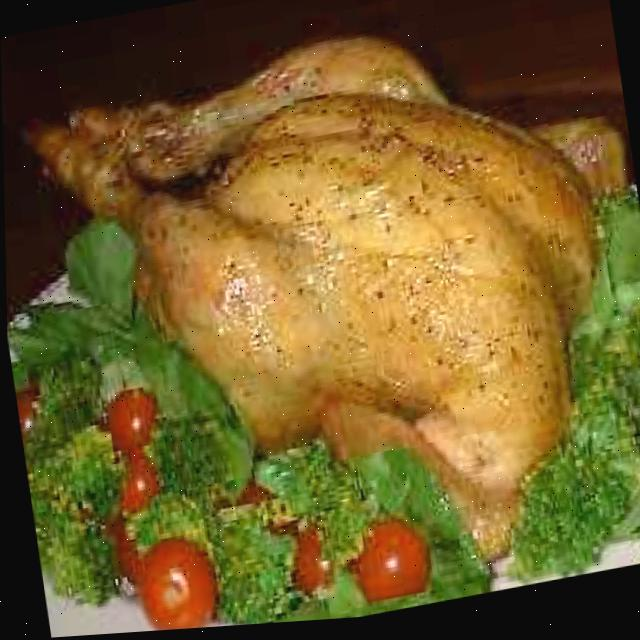鸡肉料理 含炸鸡: (13, 0, 630, 506)
